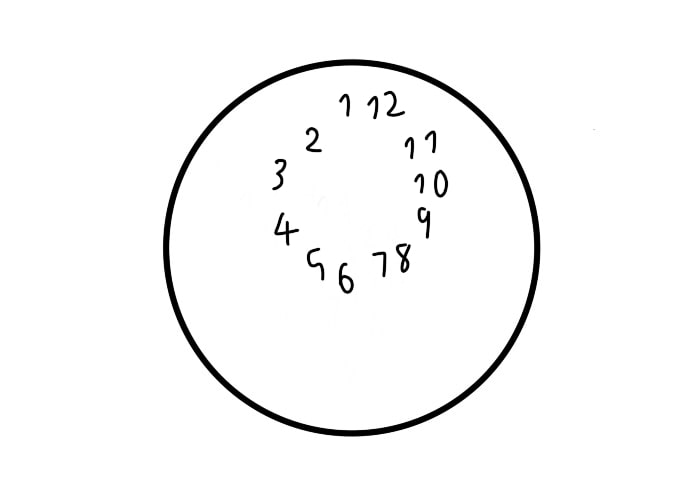eight: (392, 241, 412, 274)
eleven: (403, 127, 437, 162)
five: (303, 244, 327, 283)
four: (269, 210, 299, 249)
nine: (414, 203, 434, 239)
one: (335, 94, 354, 118)
seven: (370, 249, 389, 278)
six: (337, 261, 356, 296)
ten: (412, 167, 449, 199)
three: (270, 155, 289, 194)
twelve: (366, 88, 405, 122)
two: (303, 123, 322, 155)
